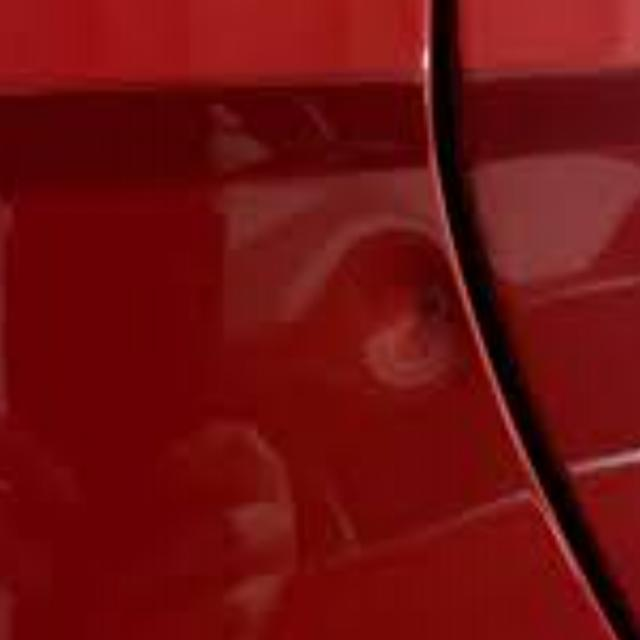dents: (335, 214, 482, 400)
